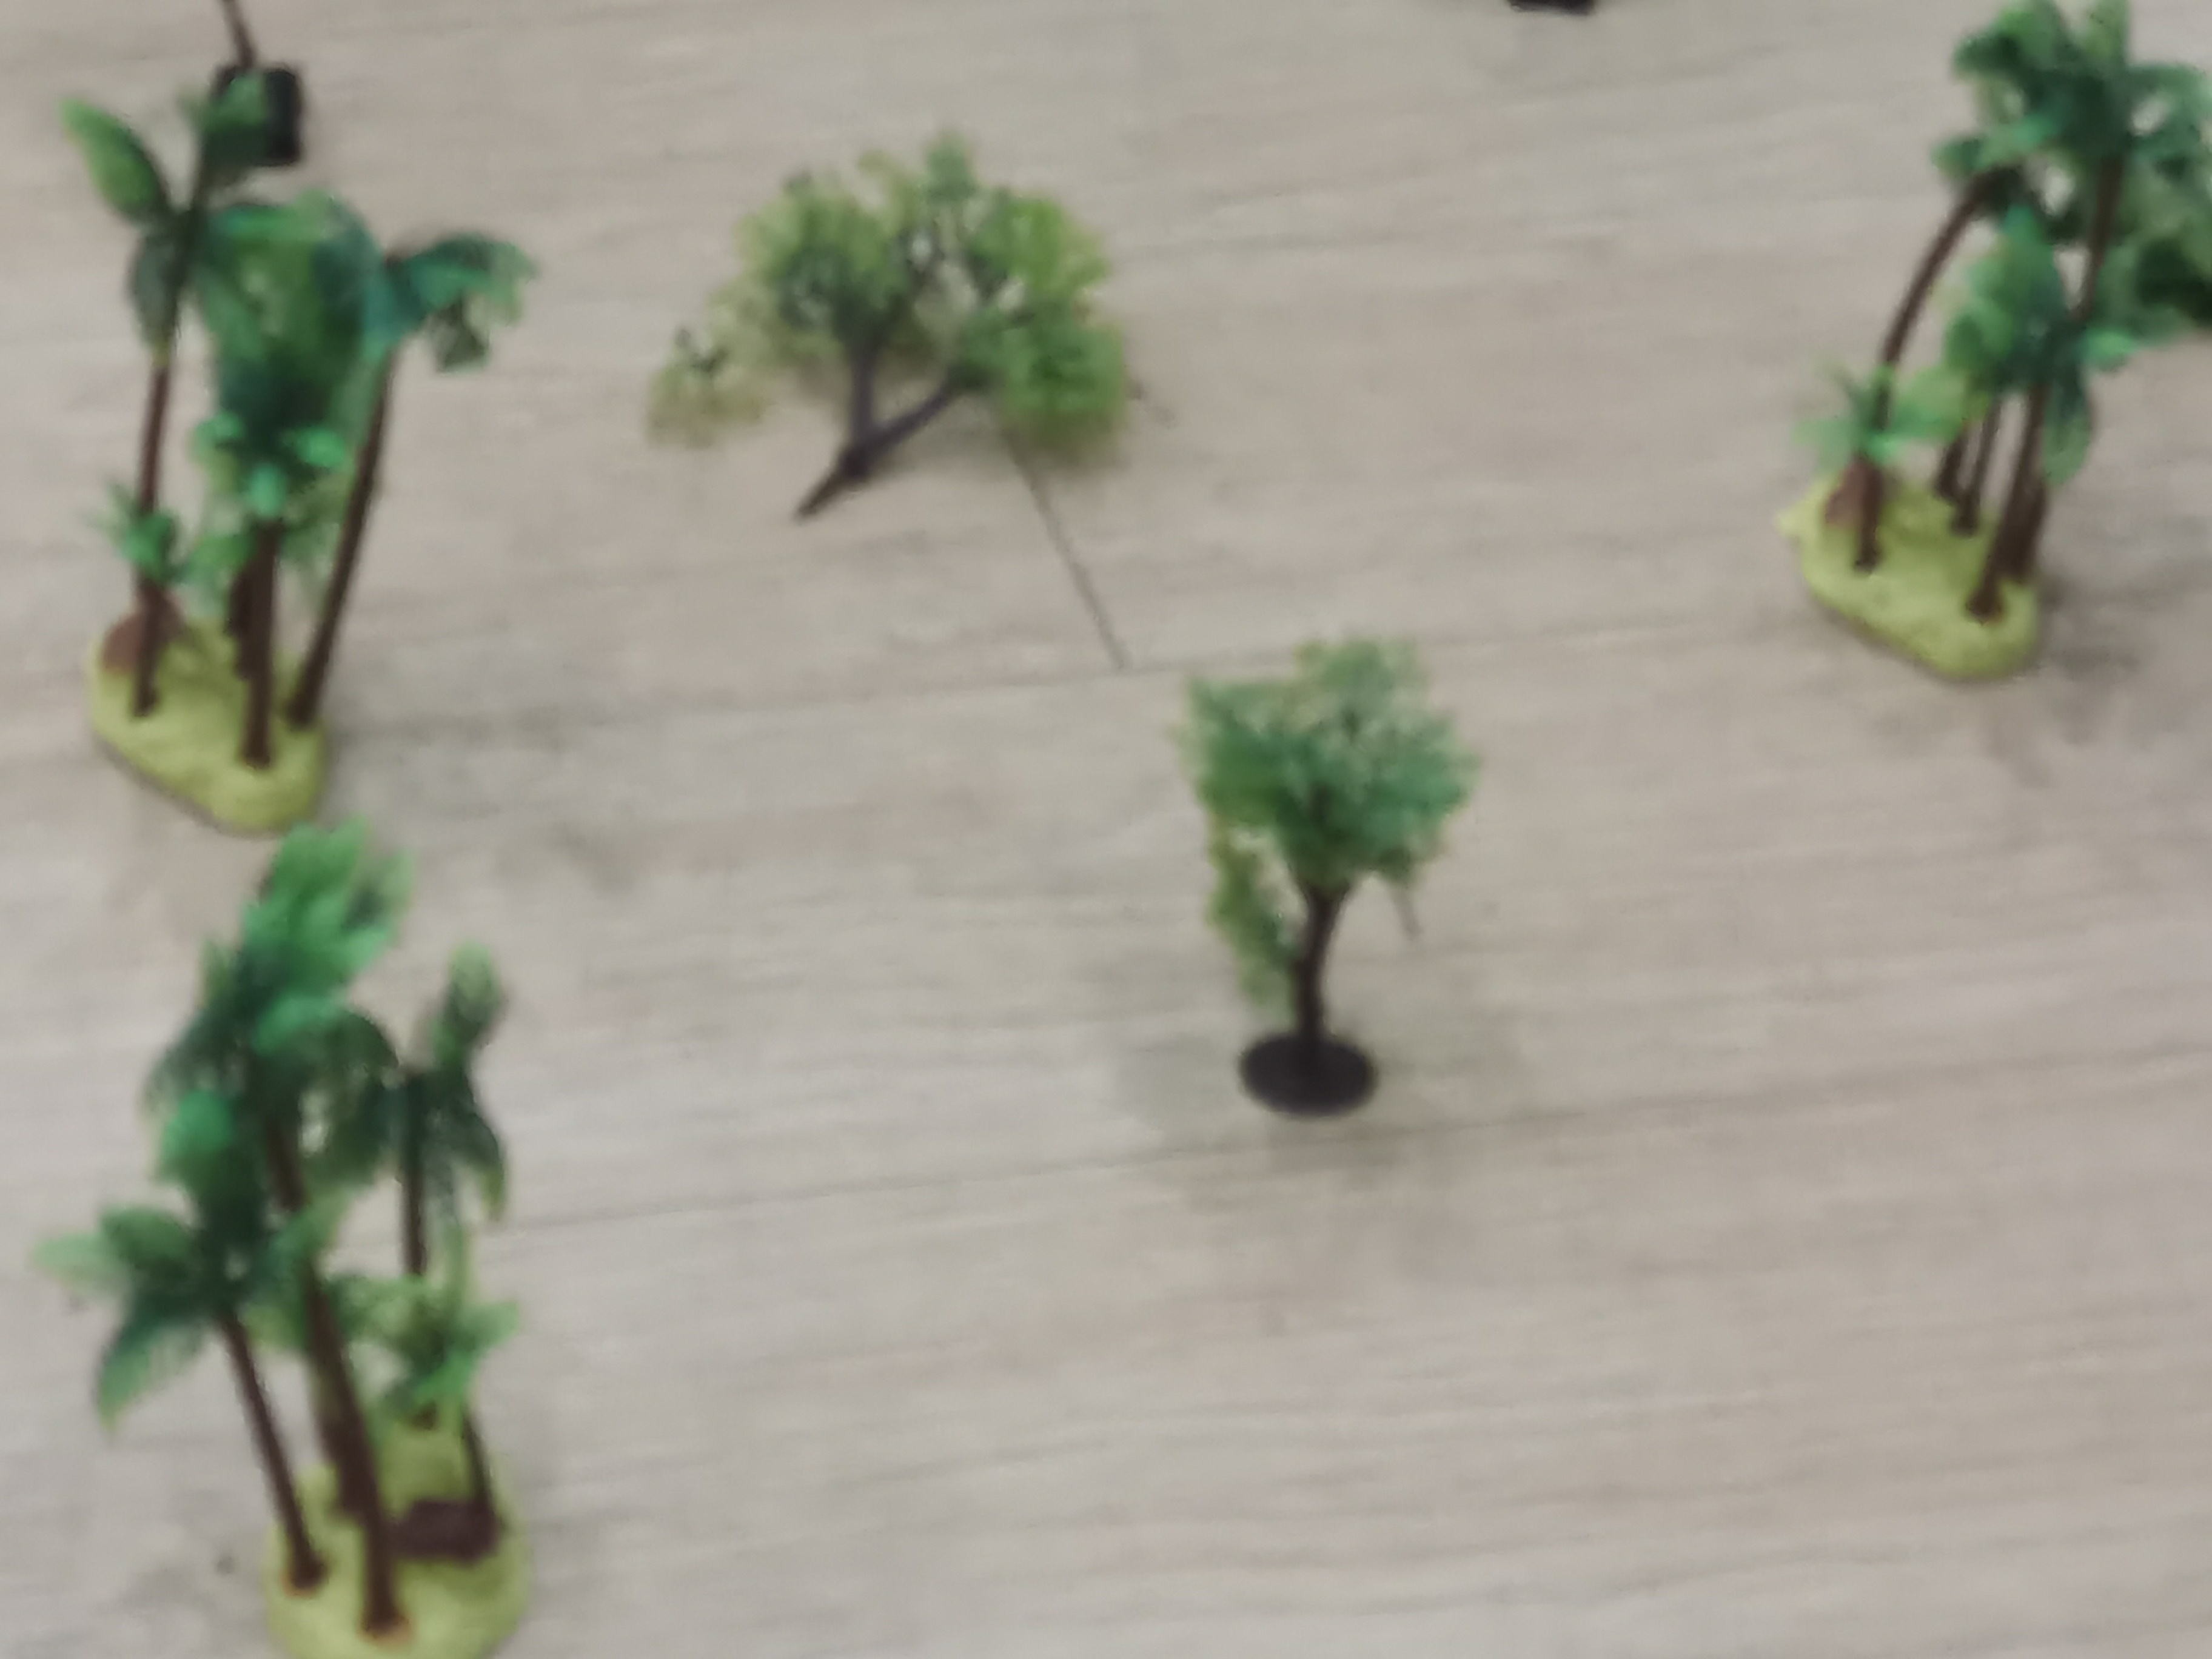corn: (66, 826, 611, 1657), (35, 73, 540, 831), (1796, 5, 2212, 683)
